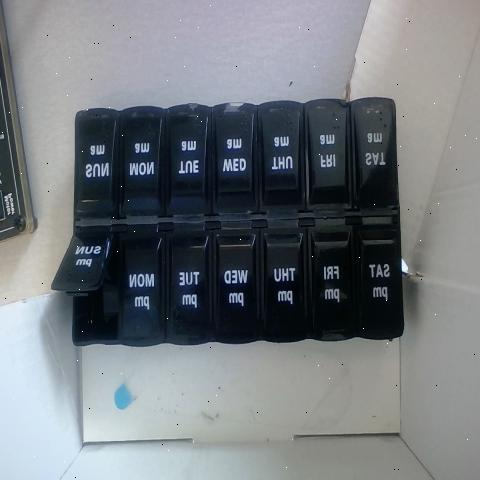FRI-am: (309, 102, 347, 211)
FRI-pm: (314, 218, 352, 339)
MON-am: (122, 110, 162, 214)
MON-pm: (118, 224, 164, 337)
Open: (69, 229, 120, 344)
SAT-am: (354, 92, 392, 214)
SAT-pm: (358, 218, 400, 334)
SUN-am: (56, 228, 112, 288)
SUN-pm: (72, 108, 117, 218)
THU-am: (260, 99, 301, 211)
THU-pm: (262, 218, 304, 341)
TUE-am: (167, 101, 208, 217)
TUE-pm: (169, 228, 212, 342)
WED-am: (214, 100, 255, 210)
WED-pm: (216, 217, 258, 335)
